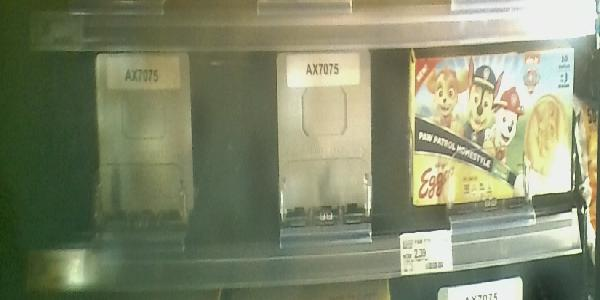icecream: (411, 44, 578, 202)
